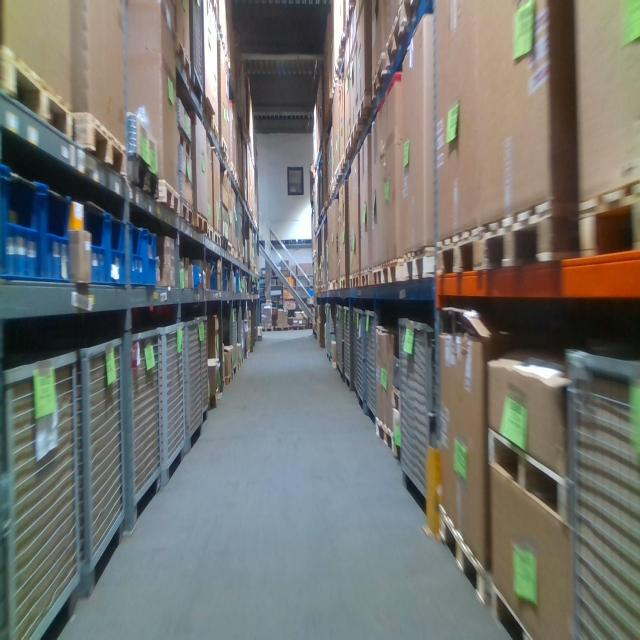pallet: (486, 422, 569, 526), (479, 198, 582, 277), (0, 38, 75, 139), (578, 175, 640, 268), (436, 503, 487, 604), (71, 107, 128, 183), (489, 580, 534, 640), (431, 230, 485, 278), (128, 155, 159, 200), (403, 245, 435, 283), (374, 412, 397, 456), (158, 180, 182, 217), (381, 253, 403, 288), (176, 37, 192, 81), (179, 199, 195, 227), (358, 93, 371, 123), (372, 263, 386, 283), (197, 215, 209, 237), (351, 126, 362, 145), (348, 271, 359, 289), (326, 278, 339, 292), (359, 271, 372, 283), (338, 164, 348, 177), (346, 139, 351, 163), (339, 278, 348, 289)
small_load_carrier: (0, 163, 44, 282), (41, 181, 72, 287), (79, 203, 109, 287), (107, 212, 126, 291), (126, 222, 145, 287), (144, 226, 161, 285), (218, 265, 230, 293)
stillage: (560, 339, 639, 640), (2, 344, 82, 639), (79, 331, 129, 602), (396, 312, 441, 505), (128, 324, 166, 535), (160, 314, 188, 490), (183, 311, 204, 461), (364, 308, 383, 424), (190, 0, 204, 108), (200, 314, 211, 435), (358, 302, 367, 412), (227, 306, 238, 372), (335, 301, 343, 383), (344, 301, 351, 393), (353, 306, 360, 397), (325, 302, 334, 361)
